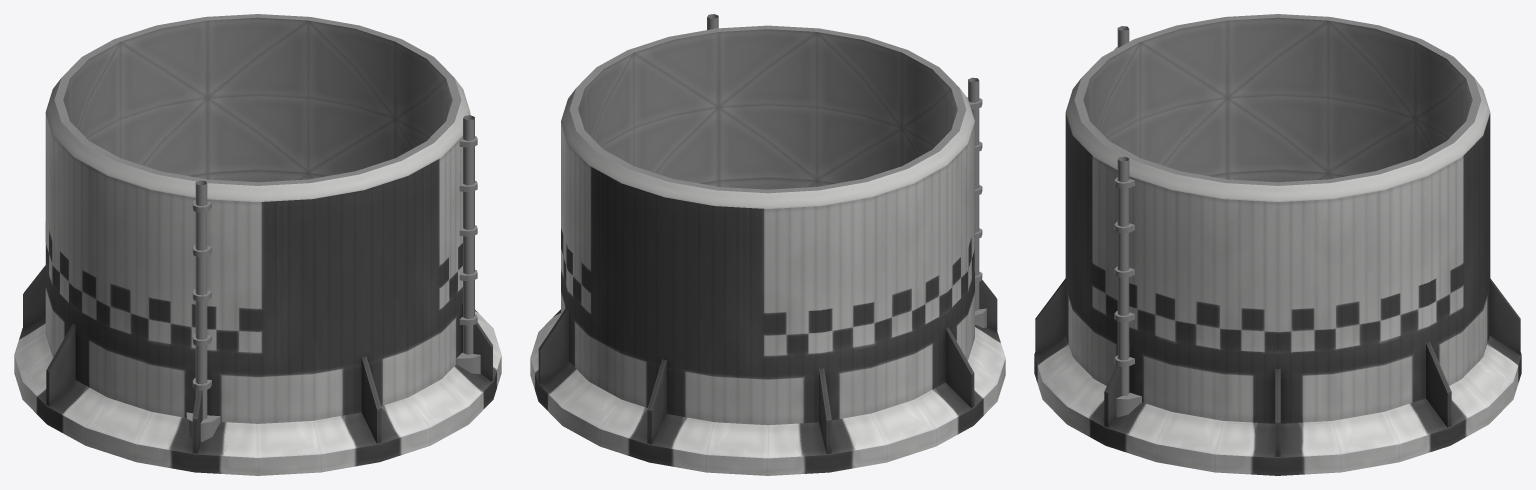
File: Saturn_S4_Interstage.dae
The picture shows the model from 3 angles, left to right: view 1: azimuth 30°, elevation 25°; view 2: azimuth 150°, elevation 25°; view 3: azimuth 270°, elevation 25°; orthographic projection. The views are drawn at different scales.
Parts seen in each view (by area): view 1: SIV_Interstage1, Ribs; view 2: SIV_Interstage1, Ribs; view 3: SIV_Interstage1, Ribs.
Part boxes in pixels (x1,y1,x2,y2): SIV_Interstage1: (14, 14, 501, 475); Ribs: (186, 115, 480, 441); SIV_Interstage1: (530, 25, 1005, 475); Ribs: (707, 14, 986, 327); SIV_Interstage1: (1034, 14, 1521, 475); Ribs: (1114, 26, 1141, 417).
Bounding box in the file's own units: 3.74 × 2.37 × 3.74.
